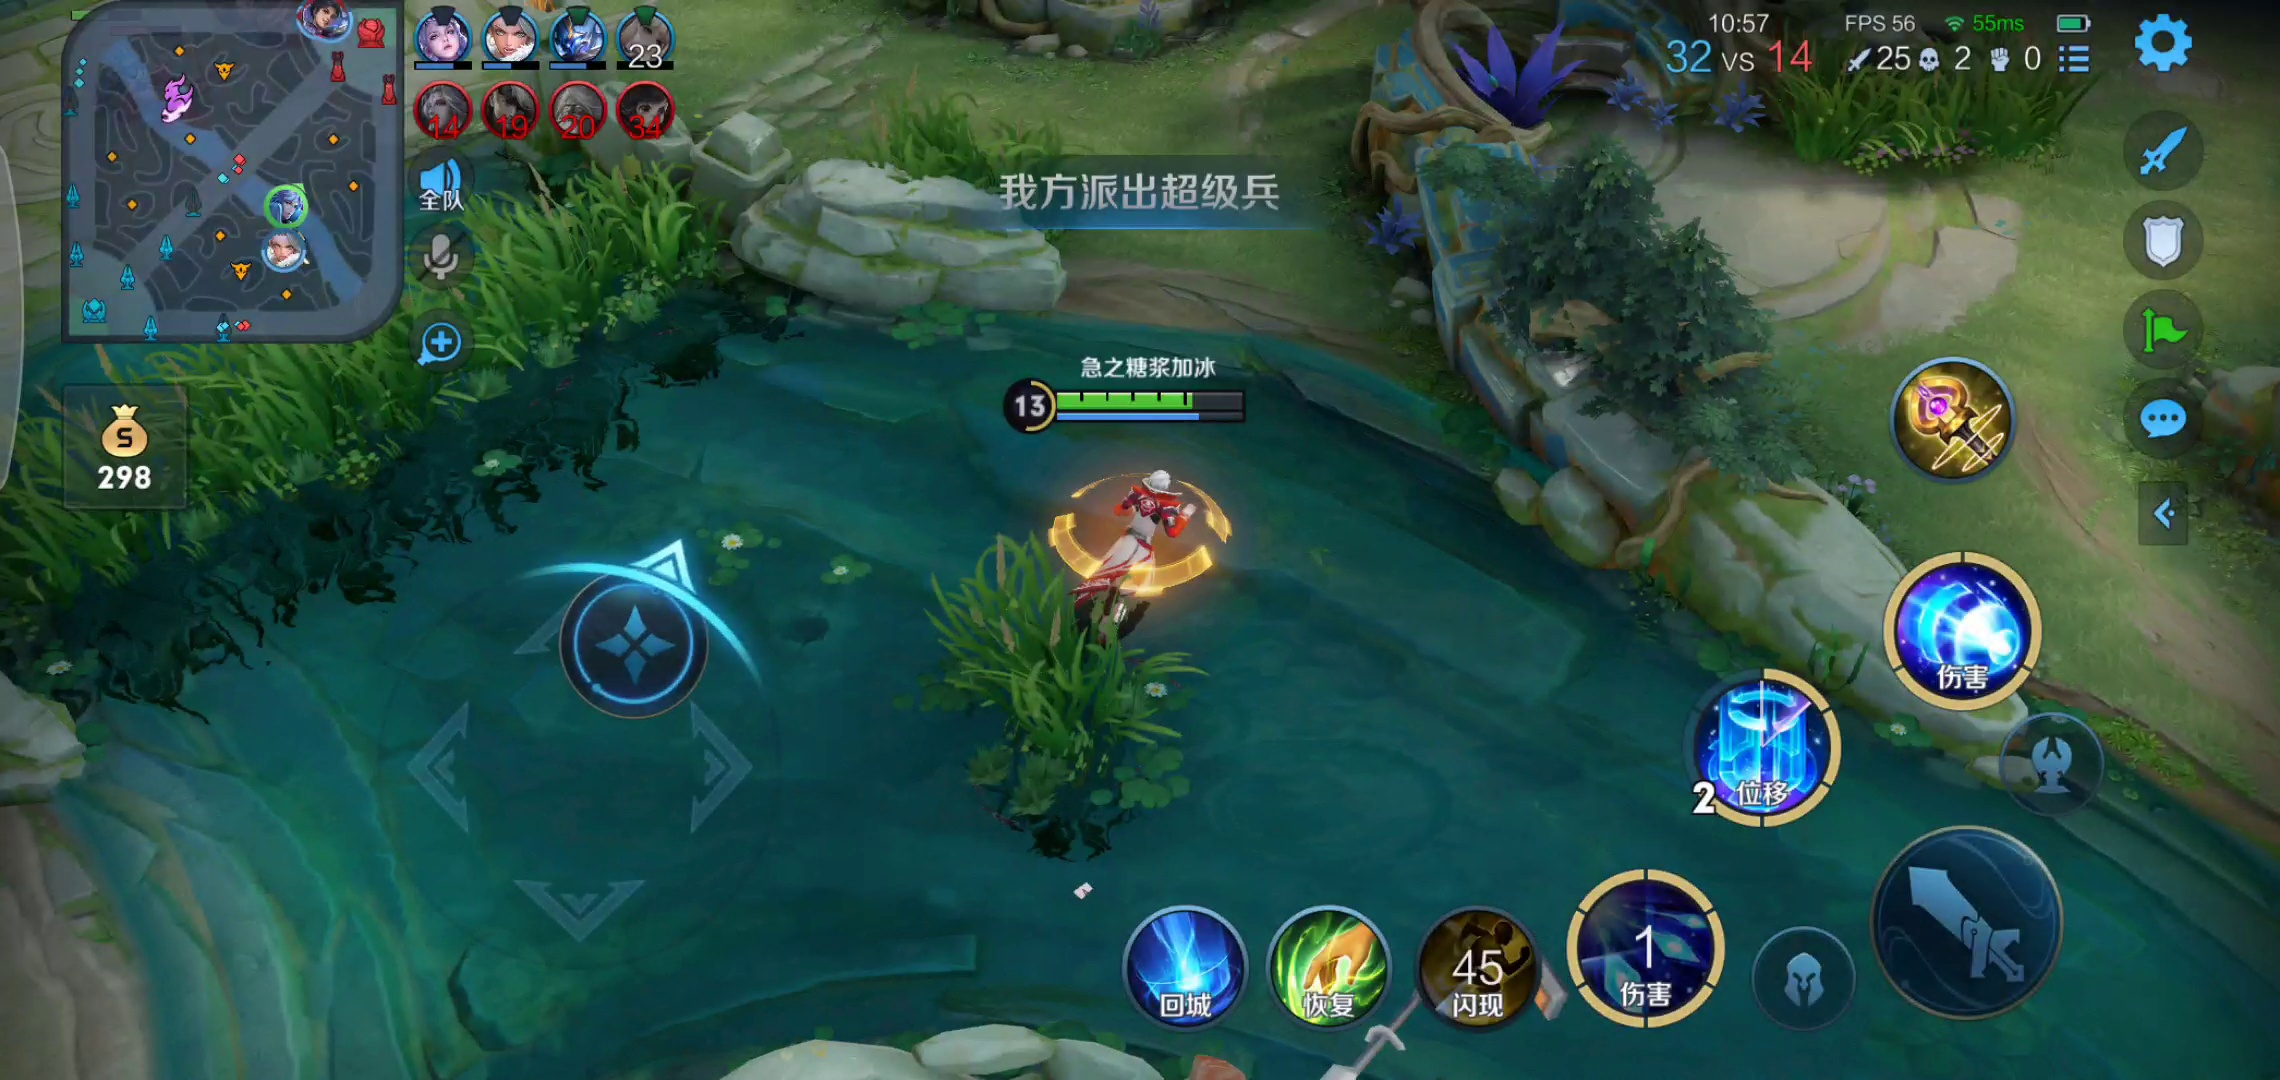grass: (1, 174, 699, 600), (920, 536, 1189, 823), (1778, 60, 2100, 193)
hero: (1044, 451, 1236, 632)
